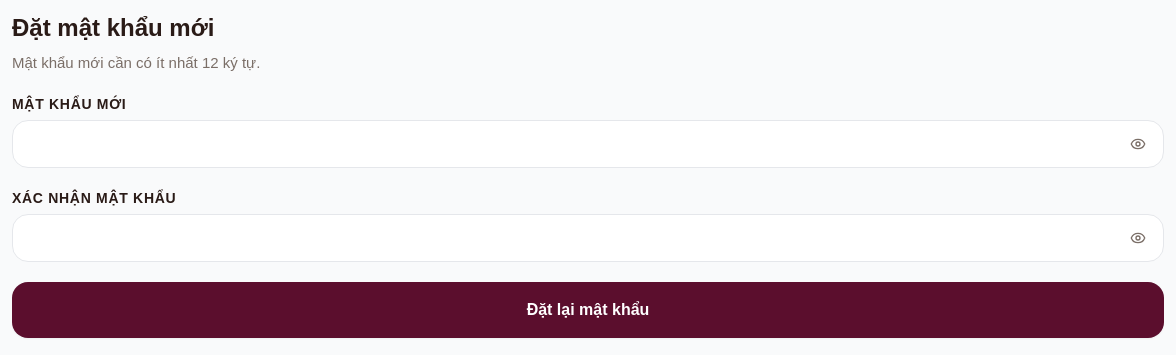
Web password recovery › replaces the password form with success feedback after reset
This screenshot has width=1176, height=355.
Step 1. Type "a-secure-password" into the password field labelled "Mật khẩu mới" → (588, 144), box [12,120,1164,168]
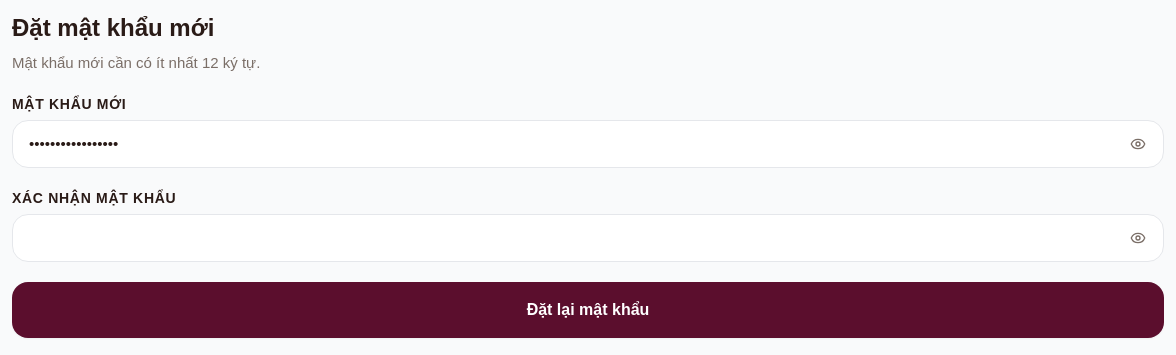
Step 2. Type "a-secure-password" into the password field labelled "Xác nhận mật khẩu" → (588, 238), box [12,214,1164,262]
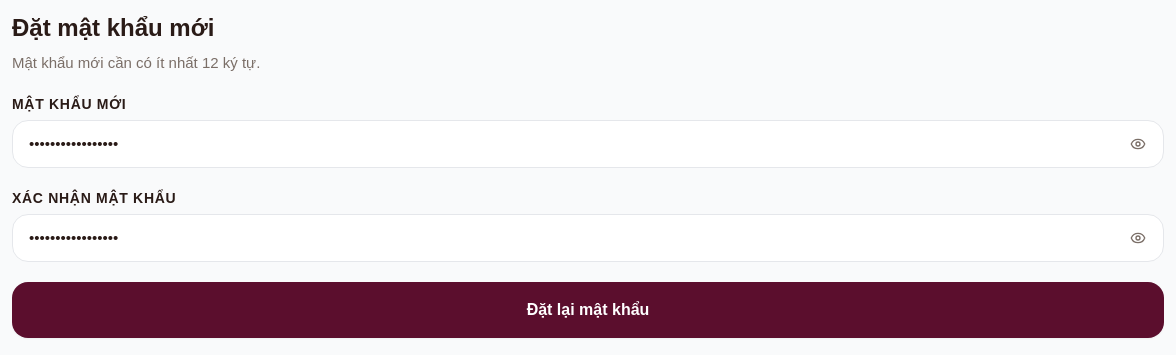
Step 3. Click the button "Đặt lại mật khẩu" → (588, 310), box [12,282,1164,338]
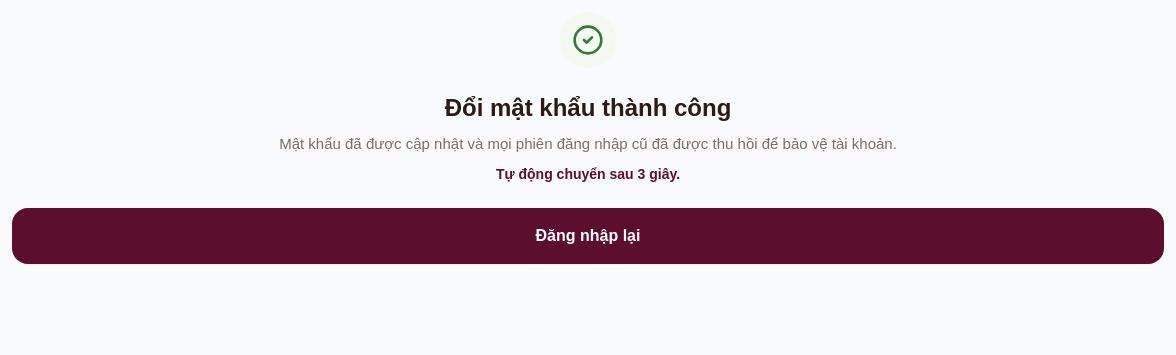
Now the heading "Đổi mật khẩu thành công" is shown, box [445,94,731,121]
Now the label labelled "Mật khẩu mới" is gone
Now the text "Tự động chuyển sau 3 giây." is shown, box [496,166,680,182]
